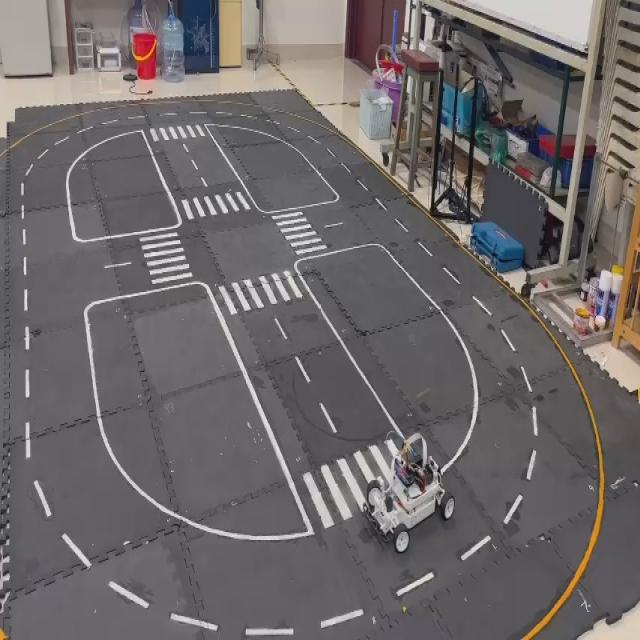SiCo-CAR: (361, 429, 455, 554)
